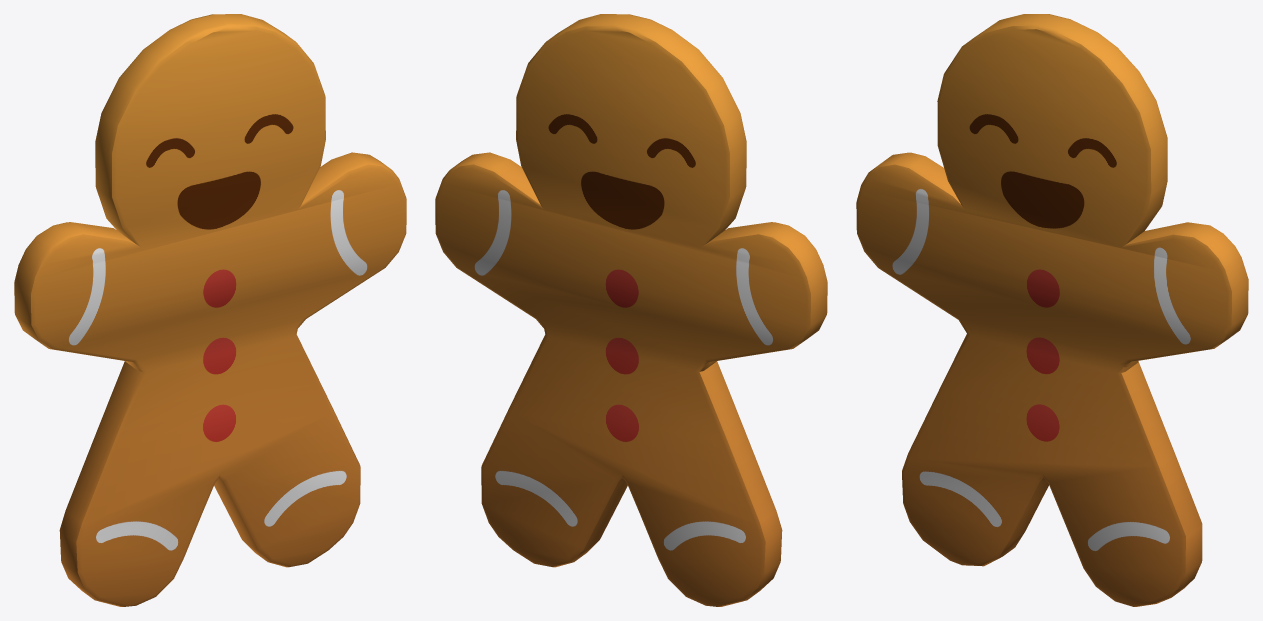
The model's file is Gingerbread.fbx.
The picture shows the model from 3 angles, left to right: view 1: azimuth 30°, elevation 25°; view 2: azimuth 150°, elevation 25°; view 3: azimuth 330°, elevation 25°; orthographic projection.
Parts seen in each view (by area): view 1: Gingerbread; view 2: Gingerbread; view 3: Gingerbread.
Boxes of the visible parts, left/top/right/bottom form: Gingerbread: left=14, top=14, right=406, bottom=606; Gingerbread: left=435, top=14, right=827, bottom=606; Gingerbread: left=856, top=14, right=1248, bottom=606.
Bounding box in the file's own units: 12.99 × 18.32 × 1.11.
